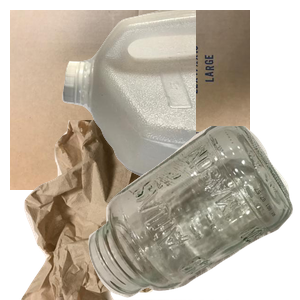cardboard: (10, 10, 250, 190)
glass: (86, 126, 300, 300)
plastic: (60, 10, 300, 190)
trash: (19, 120, 249, 300)
